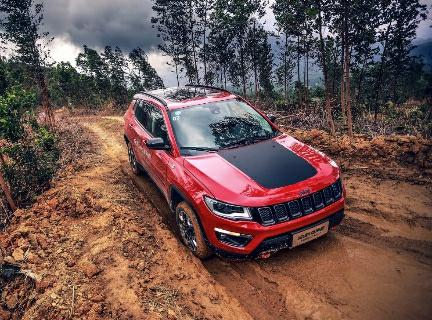car: (106, 67, 354, 279)
